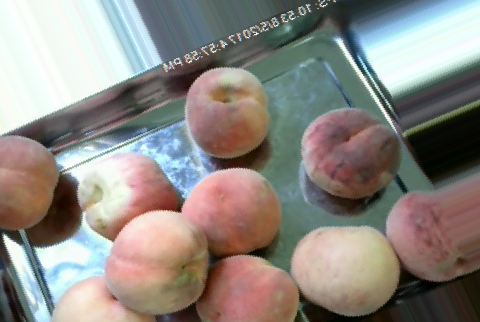Peach: (101, 211, 210, 313), (290, 225, 398, 316), (77, 151, 176, 245), (181, 165, 281, 257), (300, 108, 399, 198), (184, 66, 269, 158), (195, 254, 297, 322), (0, 135, 58, 231)
